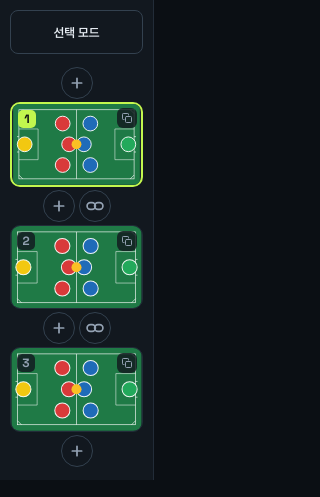
우클릭 메뉴 — 항목 배선 › [선택] — 선택 모드가 켜지고 그 카드가 체크된 채 시작한다
Right-click the button "2": {"x": 76, "y": 267} [10, 225, 143, 309]
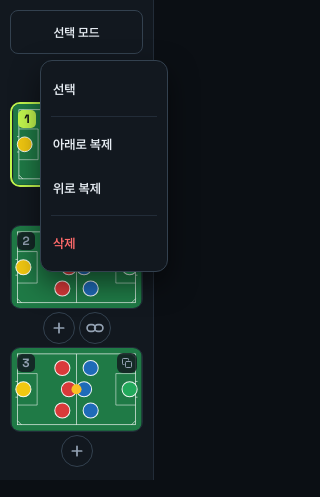
Click the menu item "선택": {"x": 104, "y": 89} [41, 67, 167, 111]
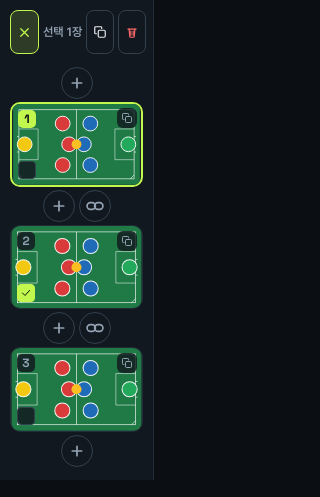
Expected: the menu is gone
Expected: the text "선택 1장" is shown, [43, 25, 82, 39]
